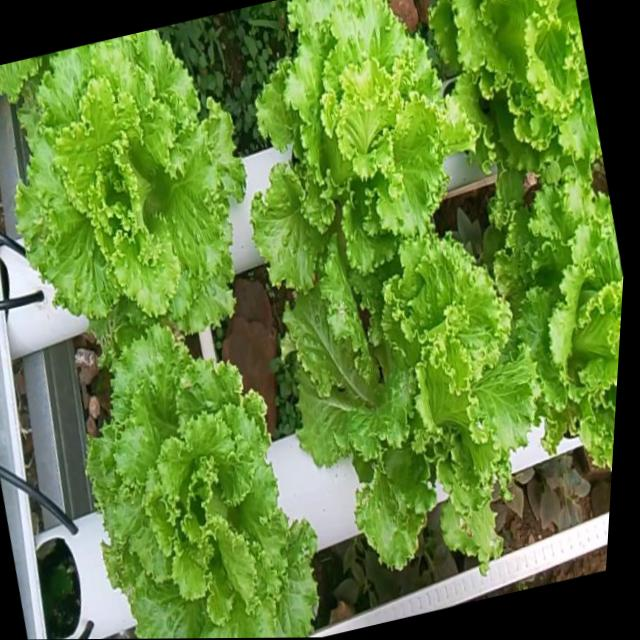Mature: (291, 230, 546, 574), (0, 27, 255, 339), (94, 323, 324, 639), (260, 0, 473, 304), (504, 192, 623, 475), (440, 0, 605, 187)
